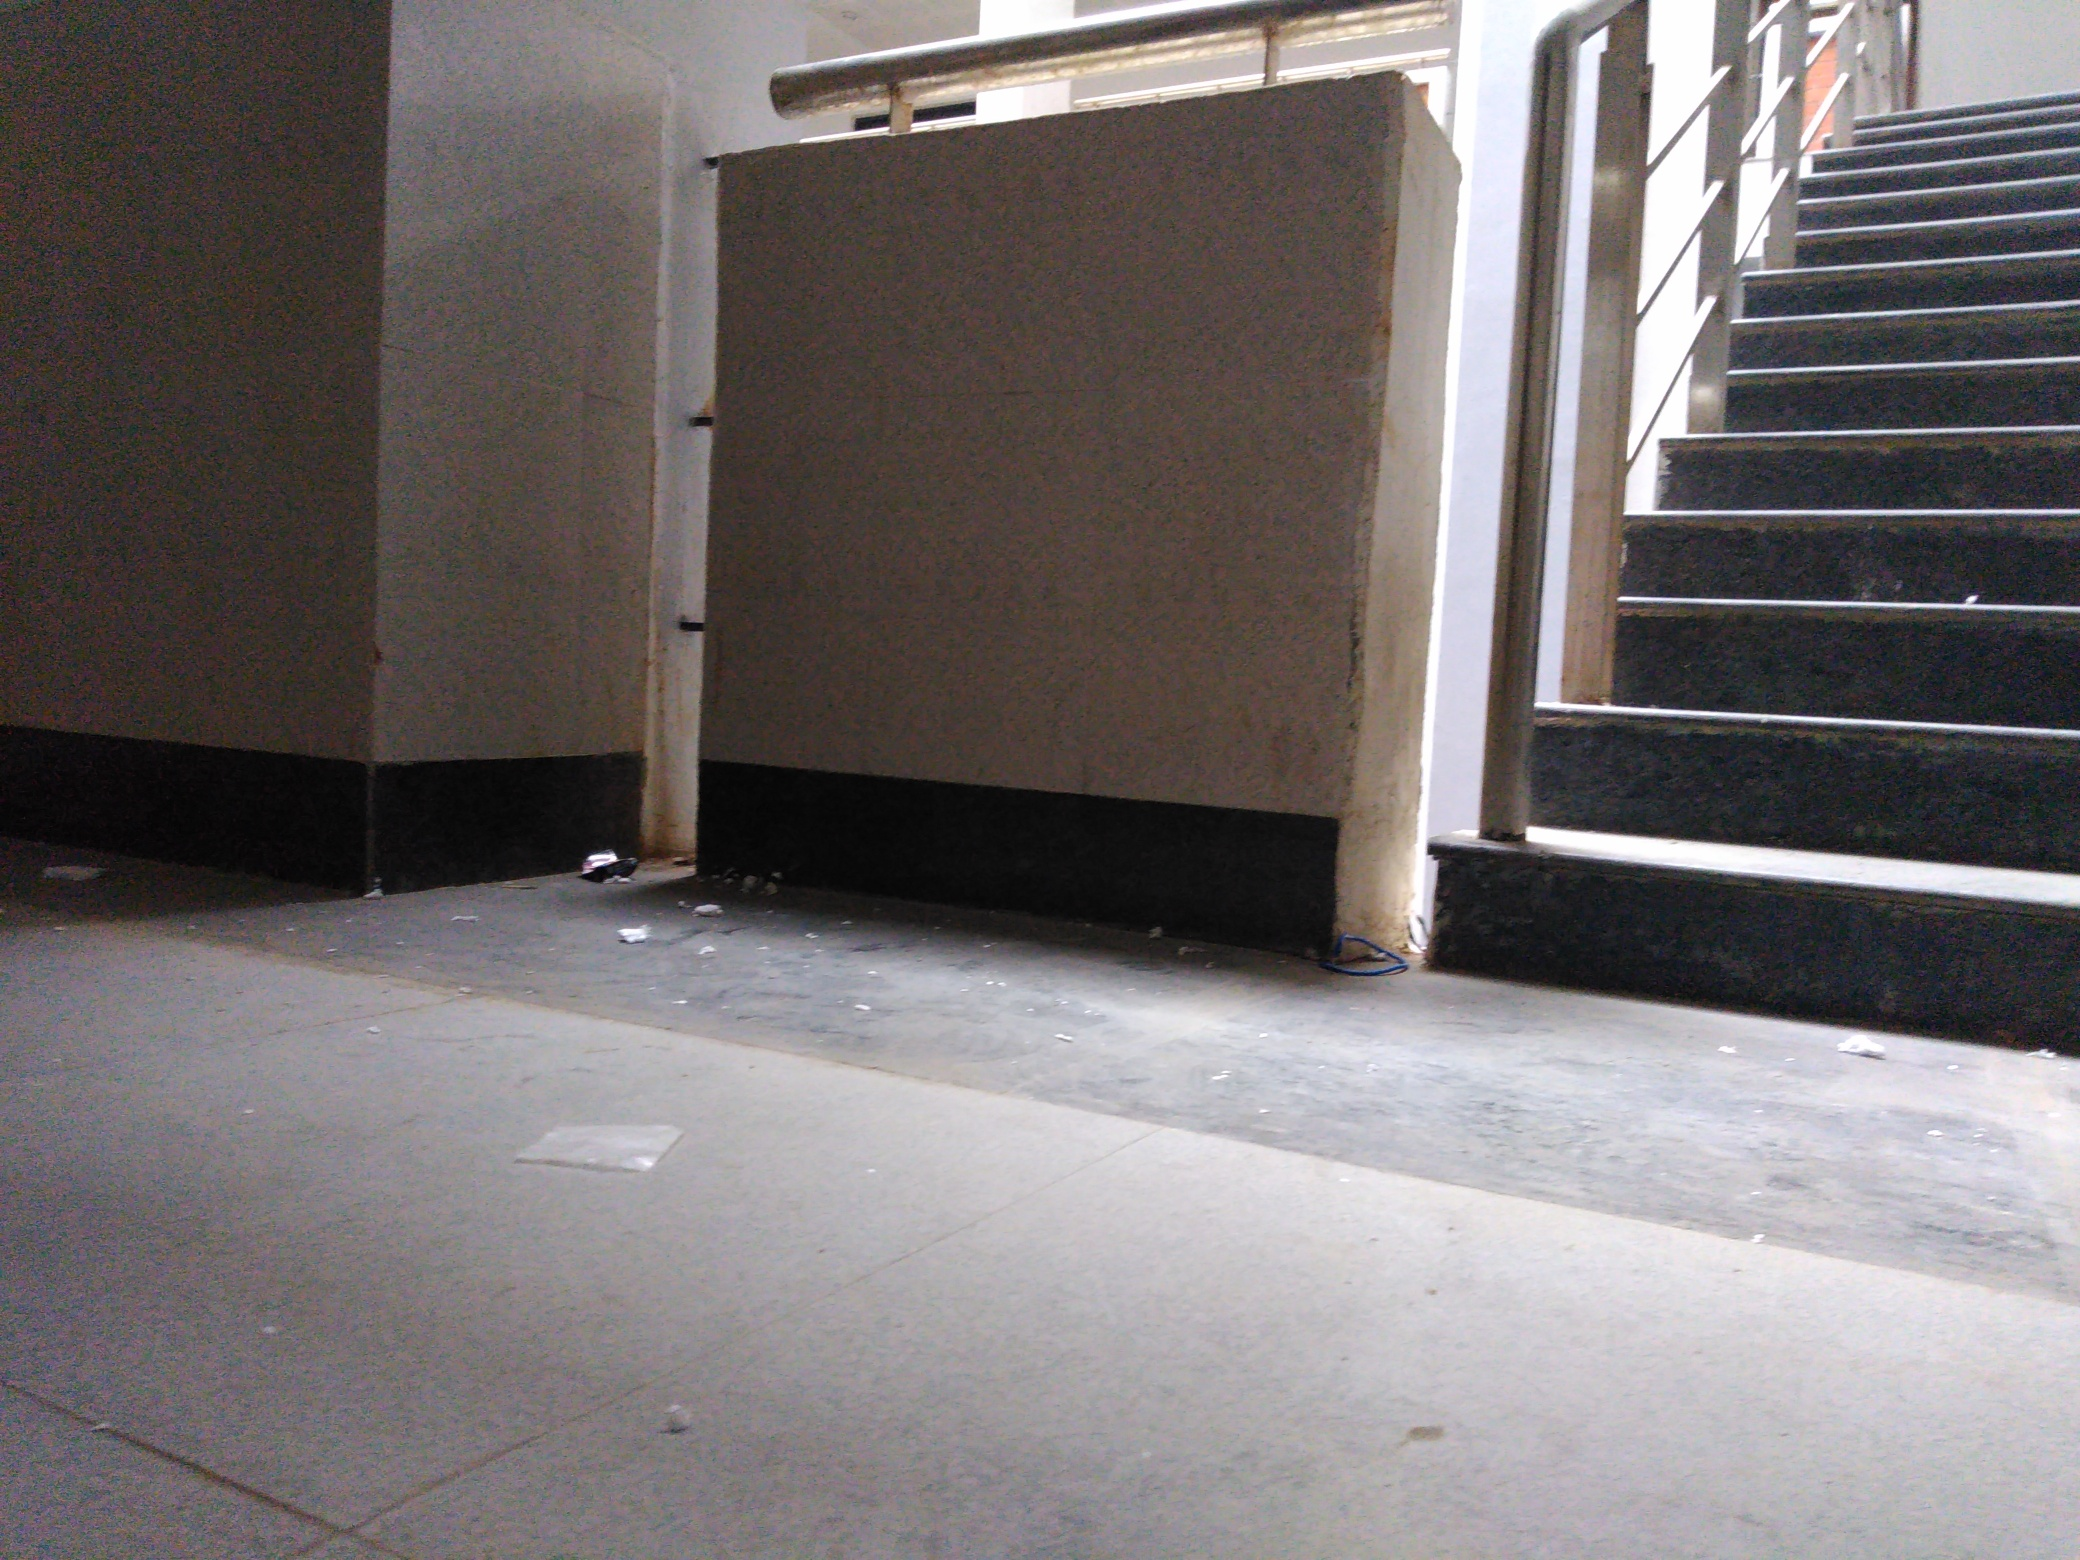stairs_up: (1540, 95, 2080, 1024)
